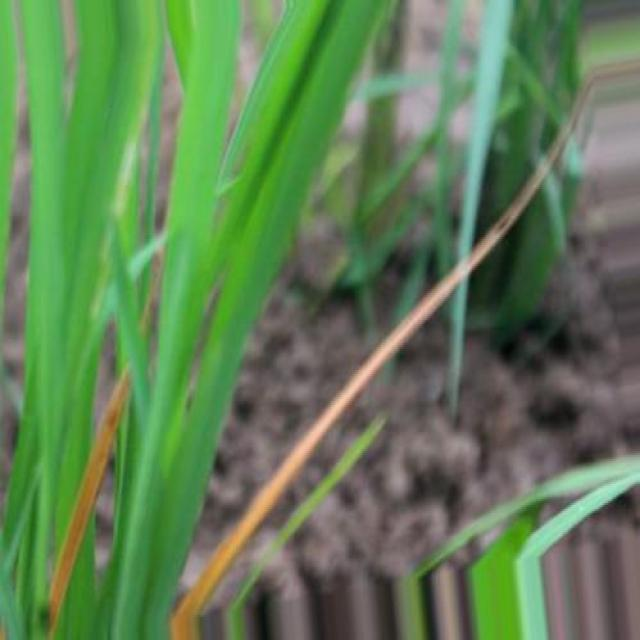Rice Tungro: (170, 78, 592, 639), (49, 370, 129, 638)
